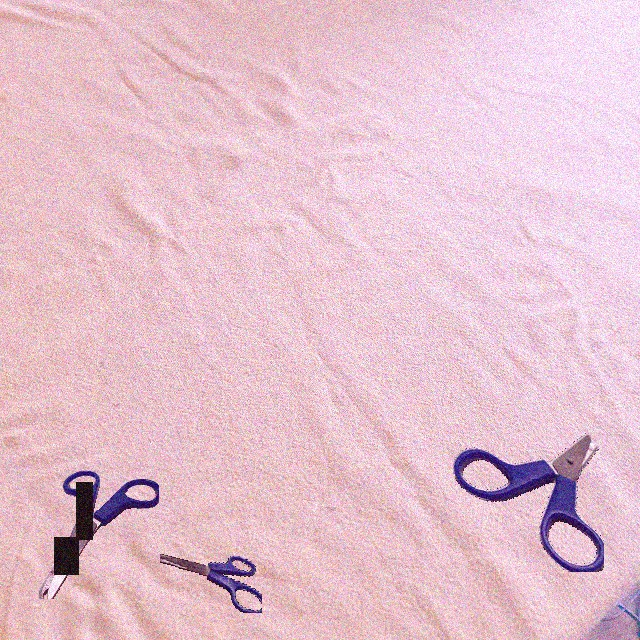scissors: (452, 433, 604, 572), (38, 470, 159, 599), (160, 554, 262, 613)
